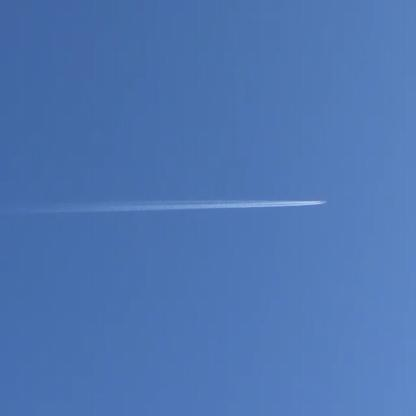CIV_Plane: (320, 198, 332, 212)
